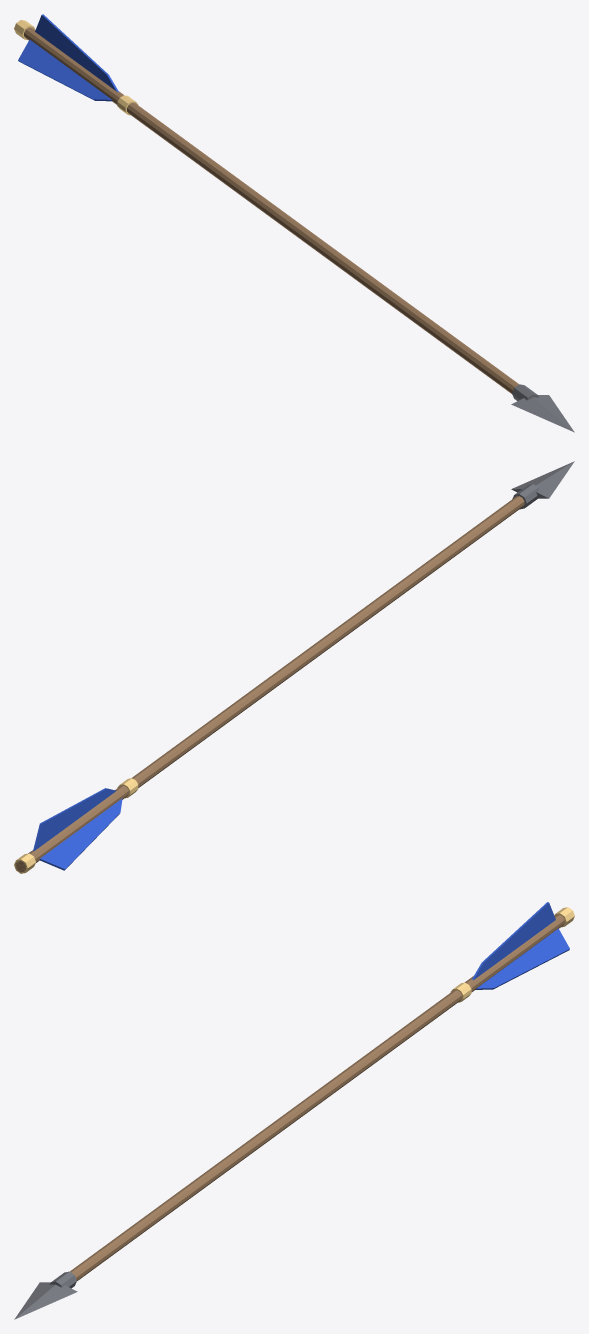
File: ROWAN_arrow_blue_fletch.fbx
3 views of the same model, one above another, from view 1: azimuth 30°, elevation 25°; view 2: azimuth 150°, elevation 25°; view 3: azimuth 330°, elevation 25° (orthographic).
Visible parts, largest first — view 1: ROWAN_arrow_blue_fletch; view 2: ROWAN_arrow_blue_fletch; view 3: ROWAN_arrow_blue_fletch.
Boxes of the visible parts, x1,y1,x2,y2 form: ROWAN_arrow_blue_fletch: (14, 14, 574, 432); ROWAN_arrow_blue_fletch: (14, 461, 574, 873); ROWAN_arrow_blue_fletch: (14, 902, 574, 1319).
Size of the model in its own units: 0.0389 by 0.0343 by 0.8025.
